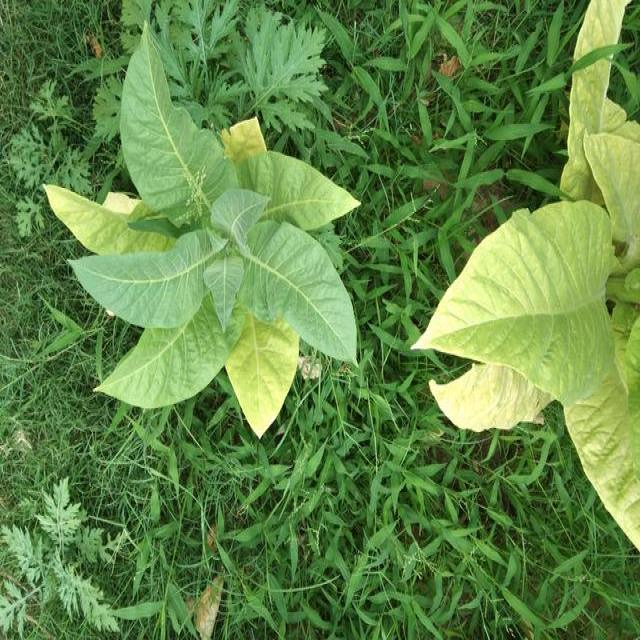crop: (35, 22, 360, 429)
